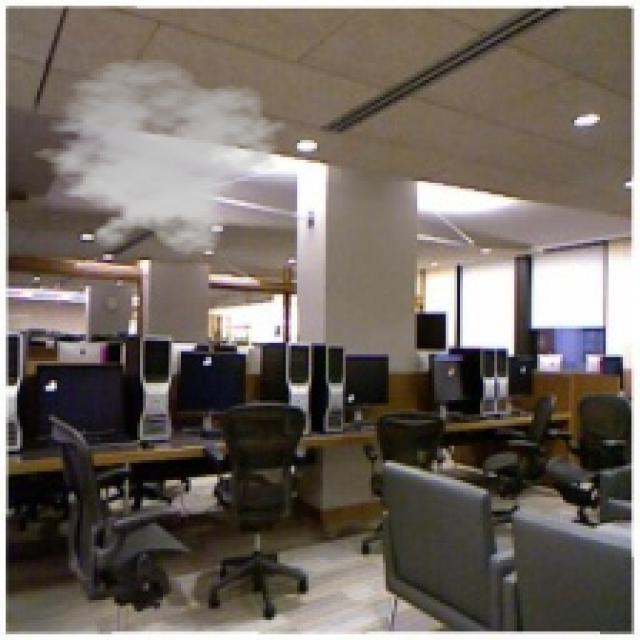Smoke: (17, 57, 289, 257)
